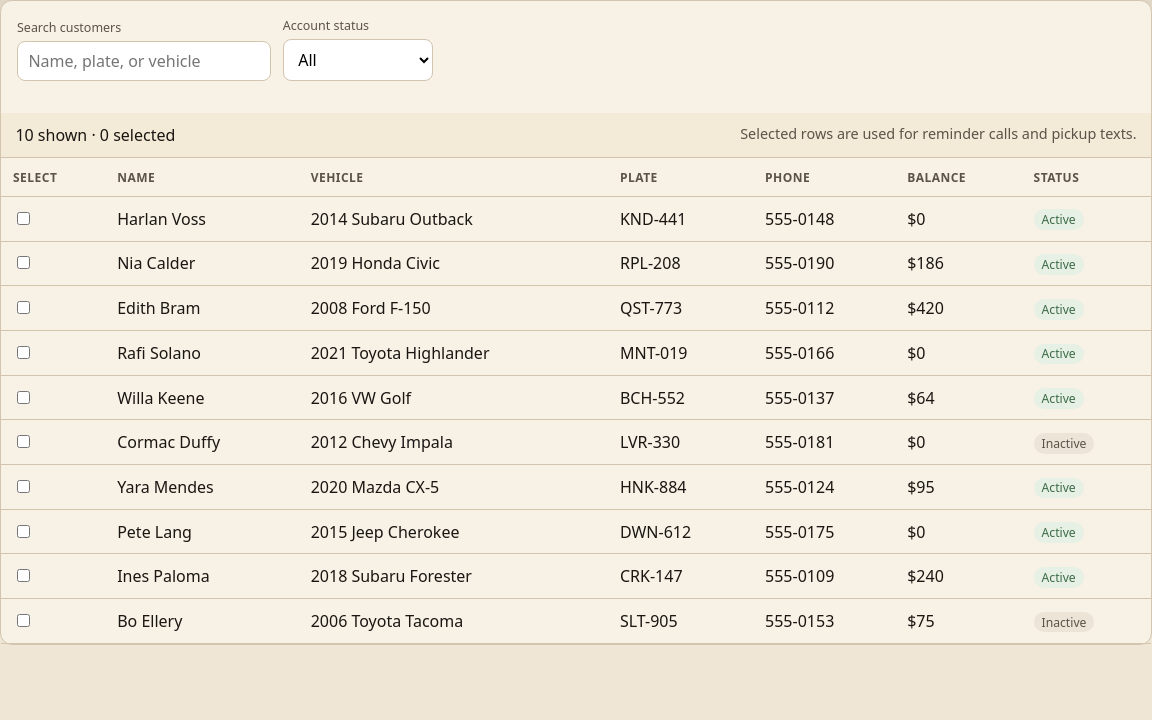
Scenario: Customer roster › lets advisors select visible rows
This screenshot has width=1152, height=720.
Click the checkbox named "Select Harlan Voss".
click(24, 218)  # box [17,212,30,225]
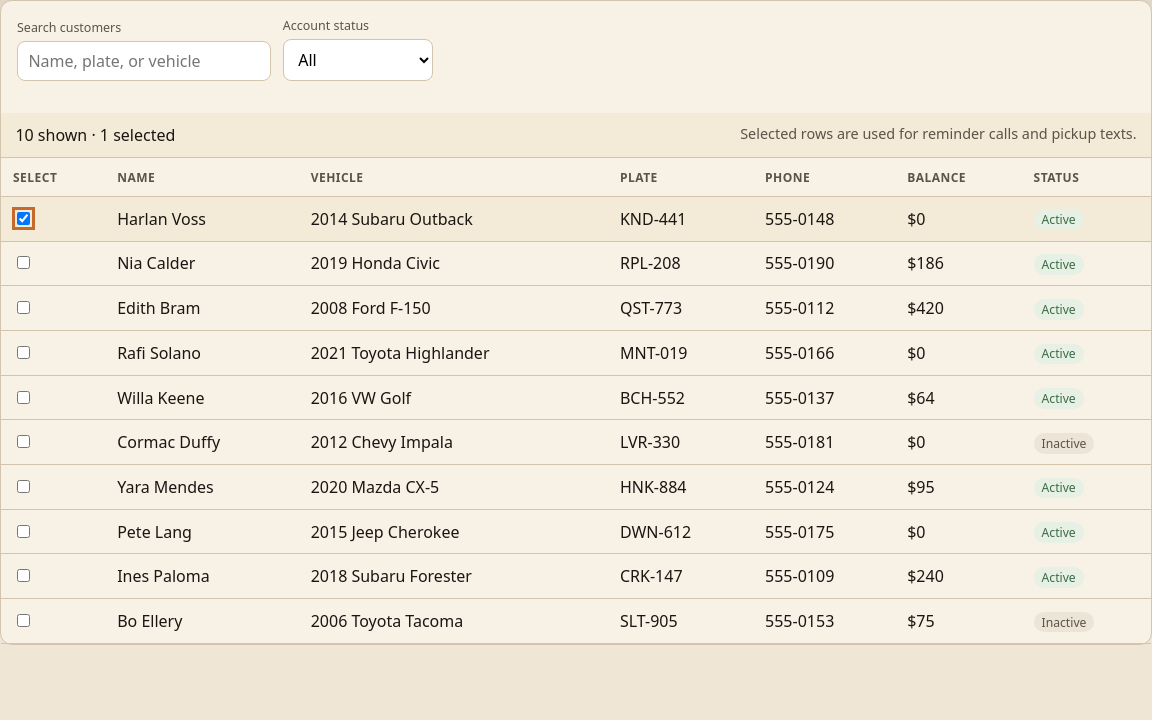
Click the checkbox named "Select Nia Calder".
click(24, 263)  # box [17,256,30,270]
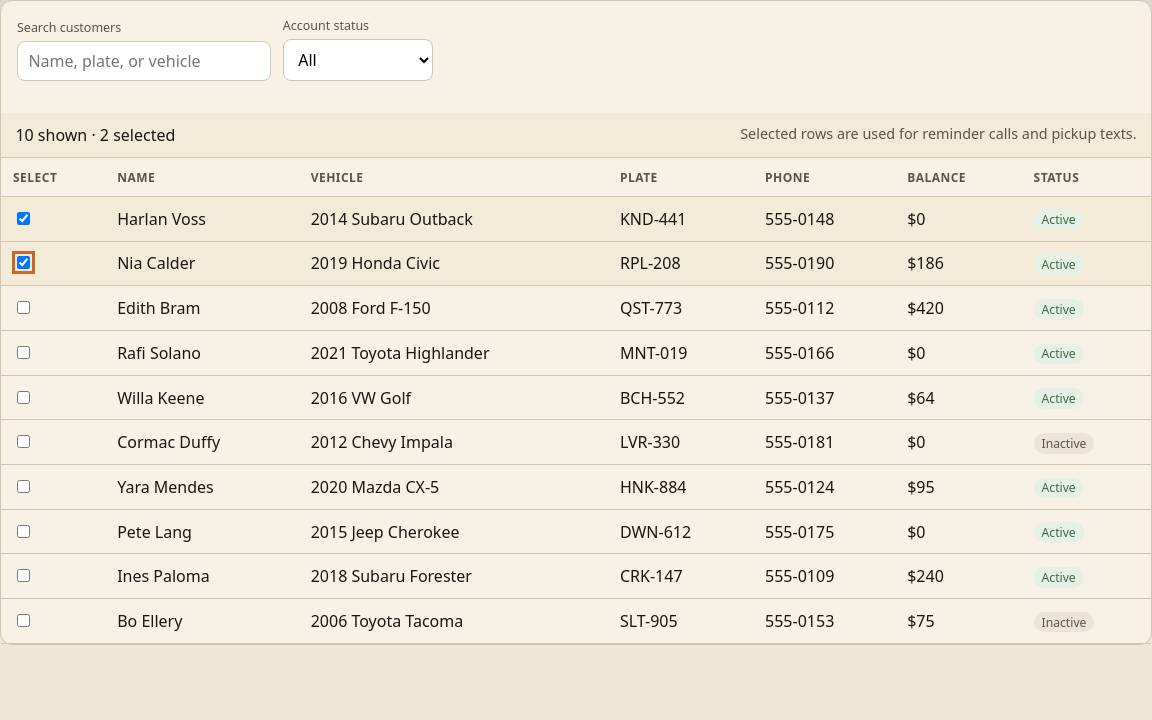
Now the checkbox named "Select Harlan Voss" is checked, box [17,212,30,225]
Now the text "10 shown · 2 selected" is shown, box [15,124,175,146]
